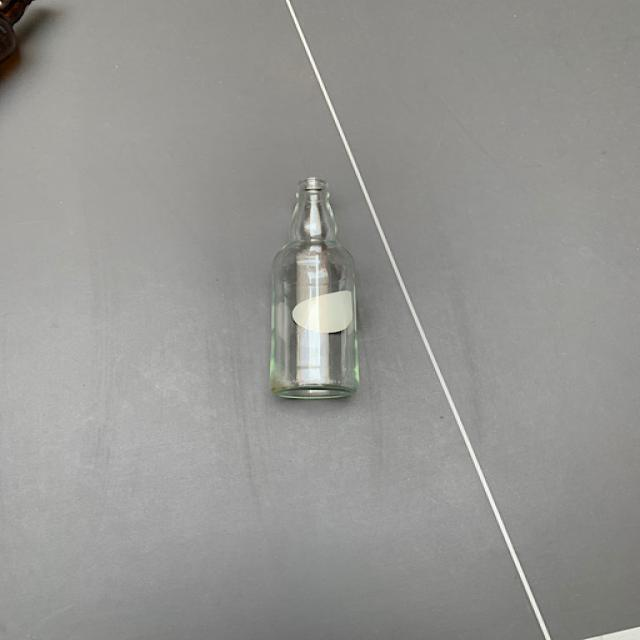litter: (266, 175, 368, 403)
